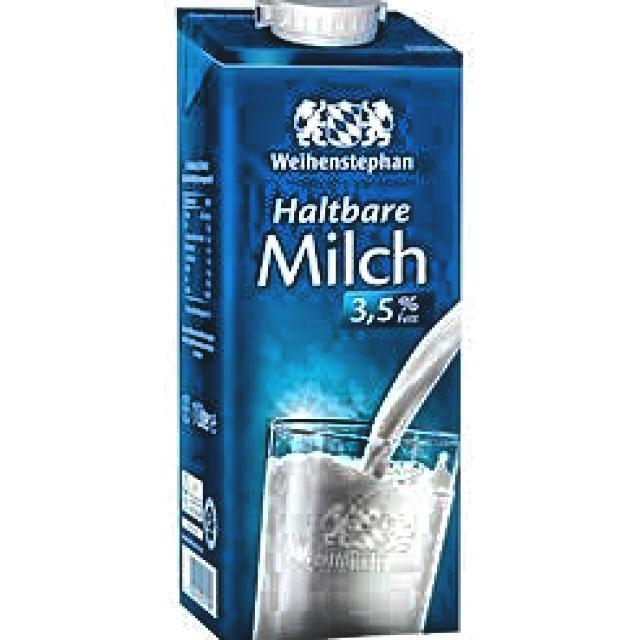cardboard: (172, 0, 464, 640)
